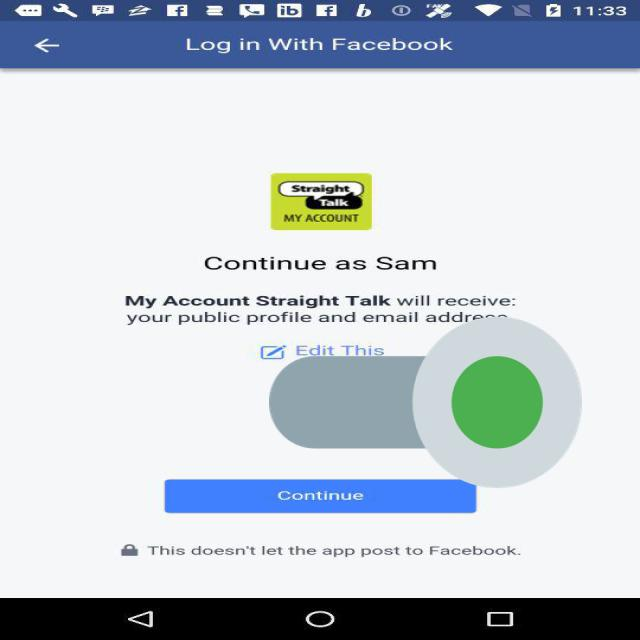social proof: (269, 244, 582, 561)
